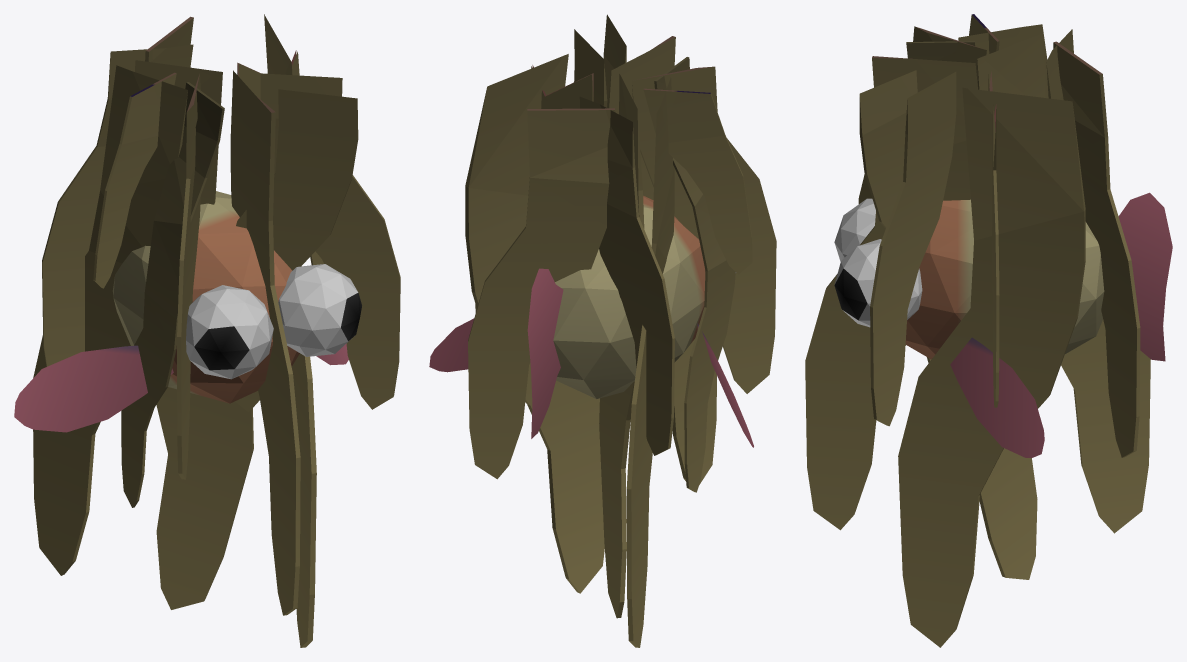
The model's file is hidden_fish.fbx.
3 views of the same model, side by side, from view 1: azimuth 30°, elevation 25°; view 2: azimuth 150°, elevation 25°; view 3: azimuth 270°, elevation 25° (orthographic). The views are drawn at different scales.
Visible parts, largest first — view 1: Plane.037, Icosphere.026, Plane.041, Icosphere.023, Icosphere.024; view 2: Plane.037, Icosphere.026, Plane.042, Plane.038, Plane.041; view 3: Plane.037, Icosphere.026, Plane.038, Plane.042, Icosphere.024, Icosphere.023.
Boxes of the visible parts, bbox=[...] form: Plane.037: bbox=[33, 14, 400, 647]; Icosphere.026: bbox=[112, 191, 299, 403]; Plane.041: bbox=[14, 345, 173, 432]; Icosphere.023: bbox=[186, 285, 273, 379]; Icosphere.024: bbox=[278, 264, 361, 356]; Plane.037: bbox=[465, 14, 776, 647]; Icosphere.026: bbox=[553, 196, 705, 398]; Plane.042: bbox=[527, 268, 563, 438]; Plane.038: bbox=[429, 318, 474, 372]; Plane.041: bbox=[697, 323, 753, 447]; Plane.037: bbox=[805, 14, 1150, 647]; Icosphere.026: bbox=[905, 199, 1104, 359]; Plane.038: bbox=[950, 337, 1044, 457]; Plane.042: bbox=[1118, 192, 1172, 361]; Icosphere.024: bbox=[834, 239, 922, 327]; Icosphere.023: bbox=[834, 198, 875, 261].
Bounding box in the file's own units: 73.28 × 118 × 70.26.
